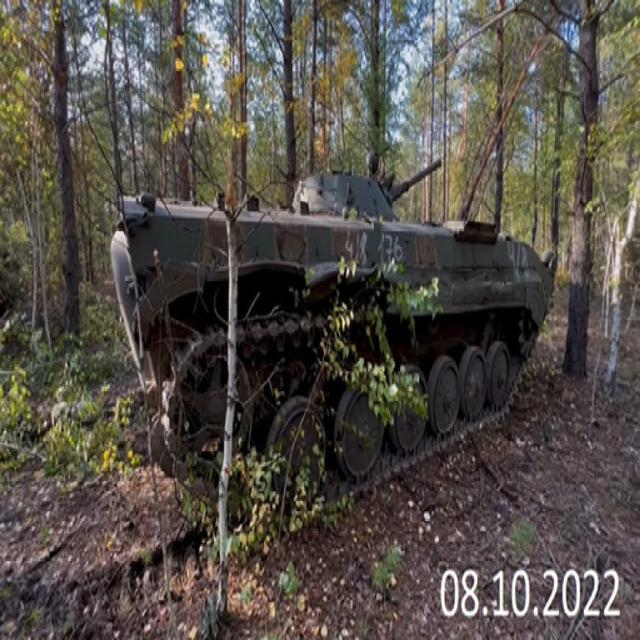APC-IFV: (101, 142, 556, 547)
